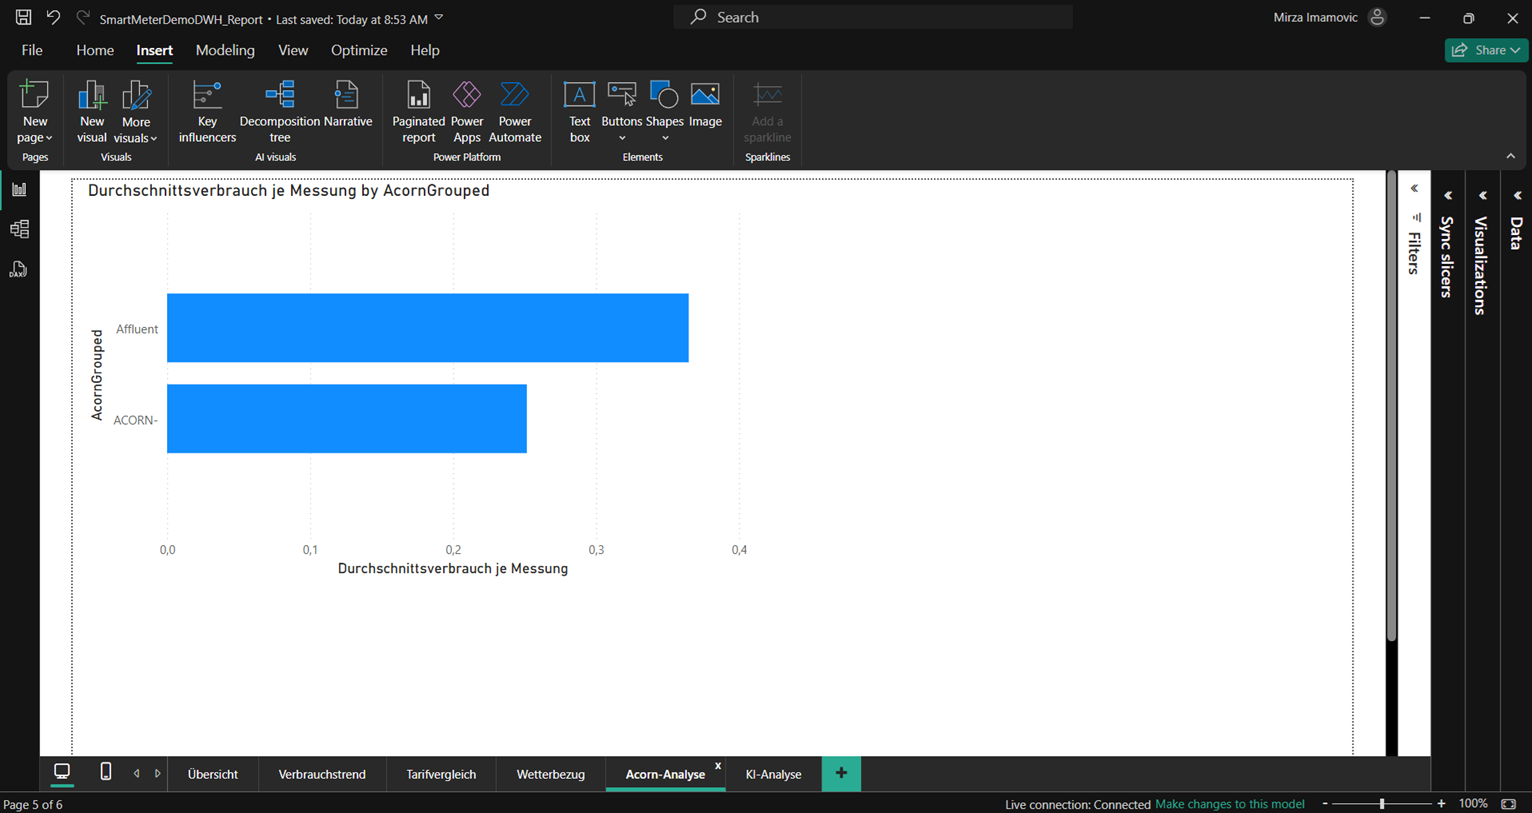

This screenshot's page, from the dashboard's own definition file:
{"tool":"powerbi","page":{"name":"Acorn-Analyse","canvas":[1280,720],"ordinal":4},"visuals":[{"type":"barChart","fields":{"Category":["Dim_Household.AcornGrouped"],"Y":["Fact_Consumption.Durchschnittsverbrauch je Messung"]},"box":[10.2,0,668.9,401.7],"z":0}]}

Visuals, with their boxes on the page's 1280x720 design canvas (x1, y1, x2, y2). These are canvas units, not pixel positions in the 1532x813 screenshot, which may show the page scaled, cropped or inside an application window:
barChart - Dim_Household.AcornGrouped x Fact_Consumption.Durchschnittsverbrauch je Messung: [10, 0, 679, 402]
